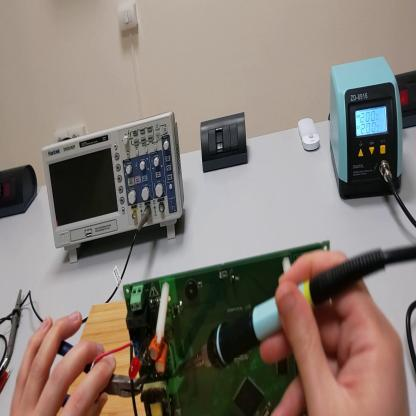hand: (260, 253, 410, 416), (12, 313, 113, 416)
low voltage board: (95, 242, 333, 416)
oscilloscope: (43, 113, 186, 264)
oscilloscope probe tip: (7, 288, 25, 366)
pliers: (58, 340, 142, 412)
socket: (2, 167, 38, 221), (396, 71, 416, 129)
welder probe tip: (172, 255, 388, 380)
welder station: (332, 59, 404, 200)
working area: (58, 307, 164, 416)
